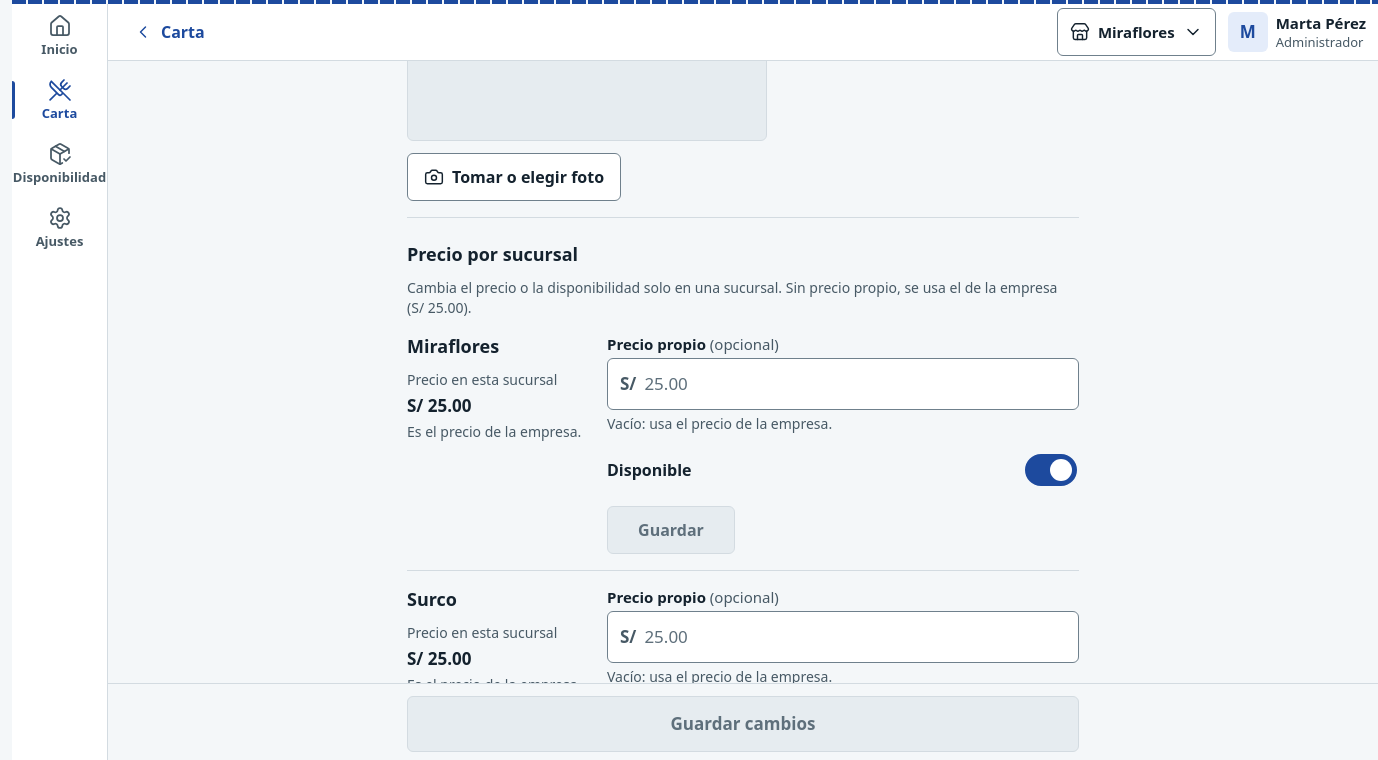
it: precio por sucursal: guardar una fila › guarda solo esa fila con su clave de idempotencia y muestra el precio efectivo nuevo
(page scrolled)
Expected: the button with aria-label "Guardar Miraflores" is disabled, [607,506,735,554]
Type "27.5" into the field named "Precio propio en Miraflores" at (857, 384), box [636,360,1078,408]
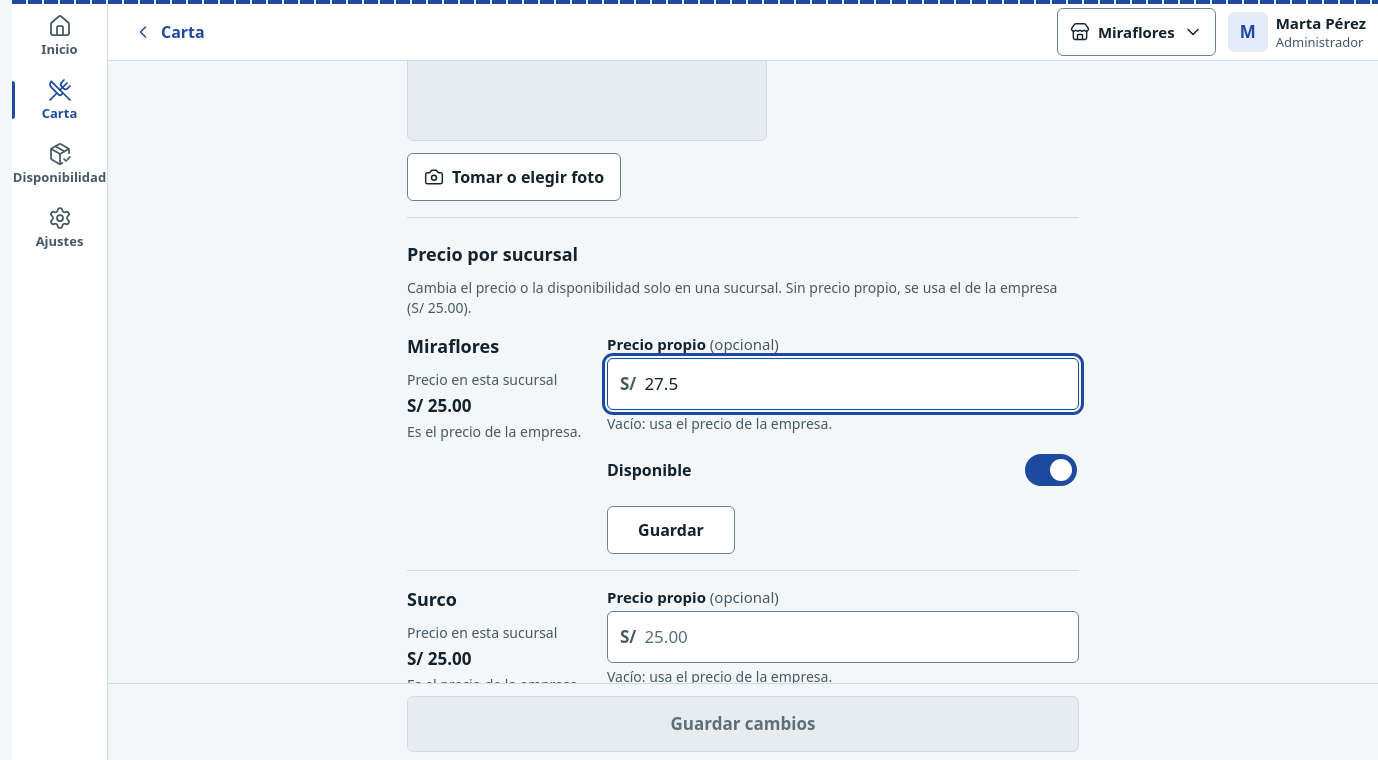
Click the switch at (1051, 470), box [1023,446,1079,494]
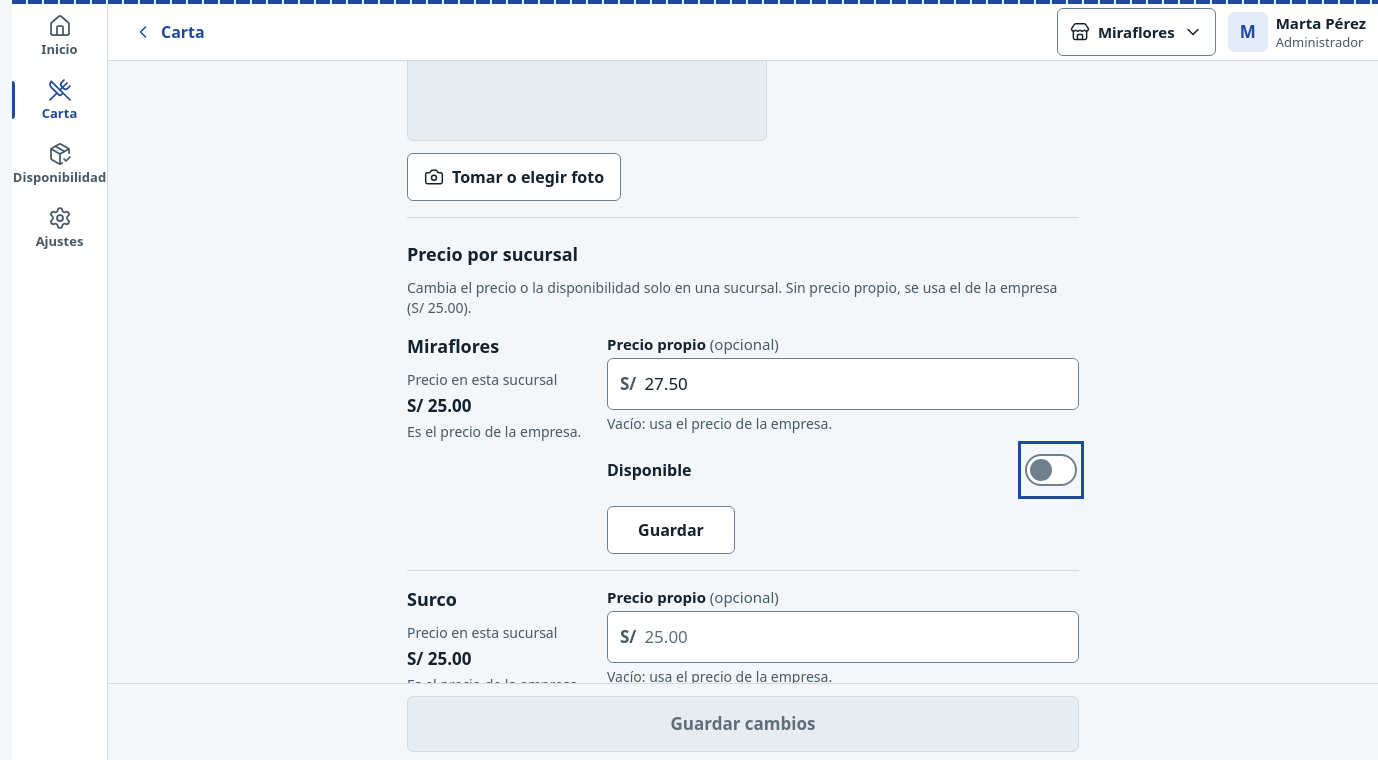
Expected: the 1st button "Guardar" is enabled
Click the 1st button "Guardar" at (671, 530), box [607,506,735,554]
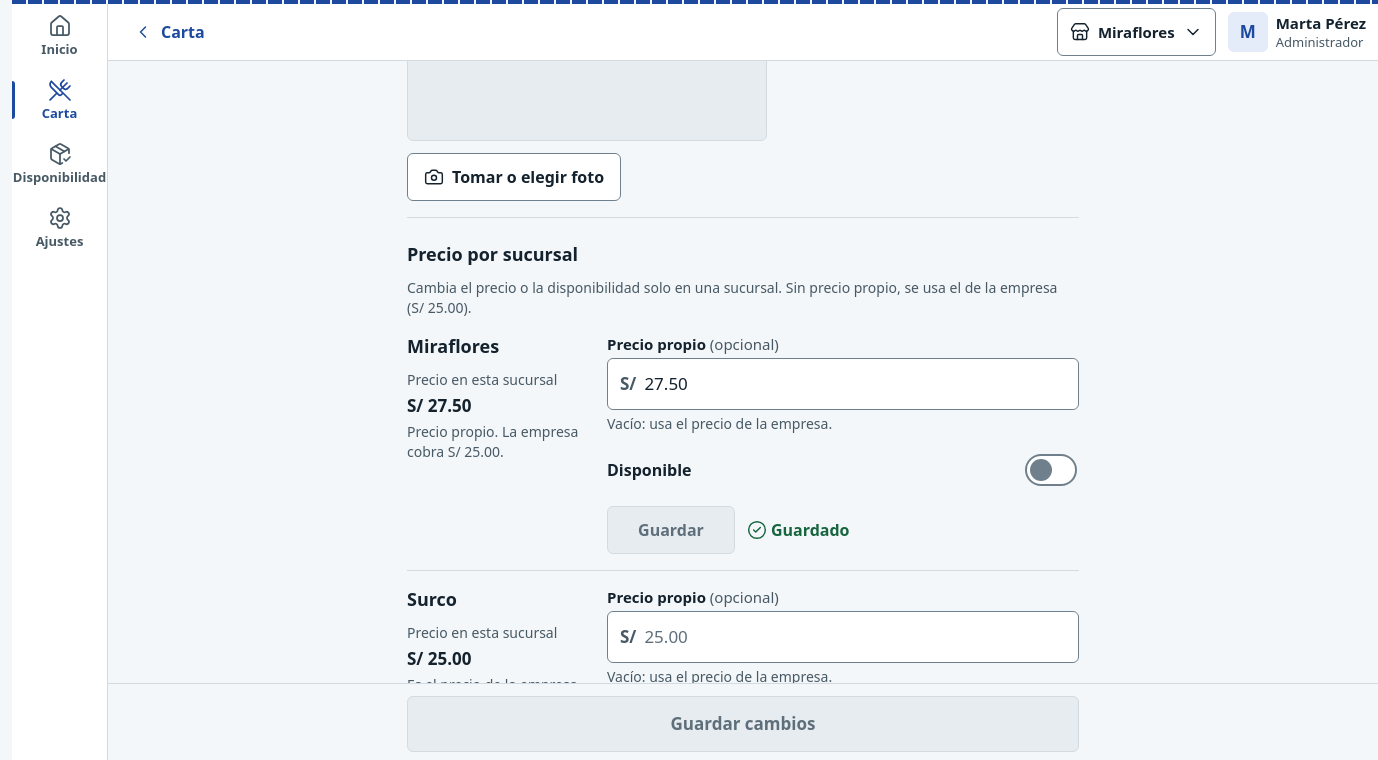
Expected: the field named "Precio propio en Miraflores" holds "27.50", [636,360,1078,408]
Expected: the text "Guardado" is shown, [747,518,850,542]
Expected: the text "S/ 27.50" is shown, [407,394,472,418]
